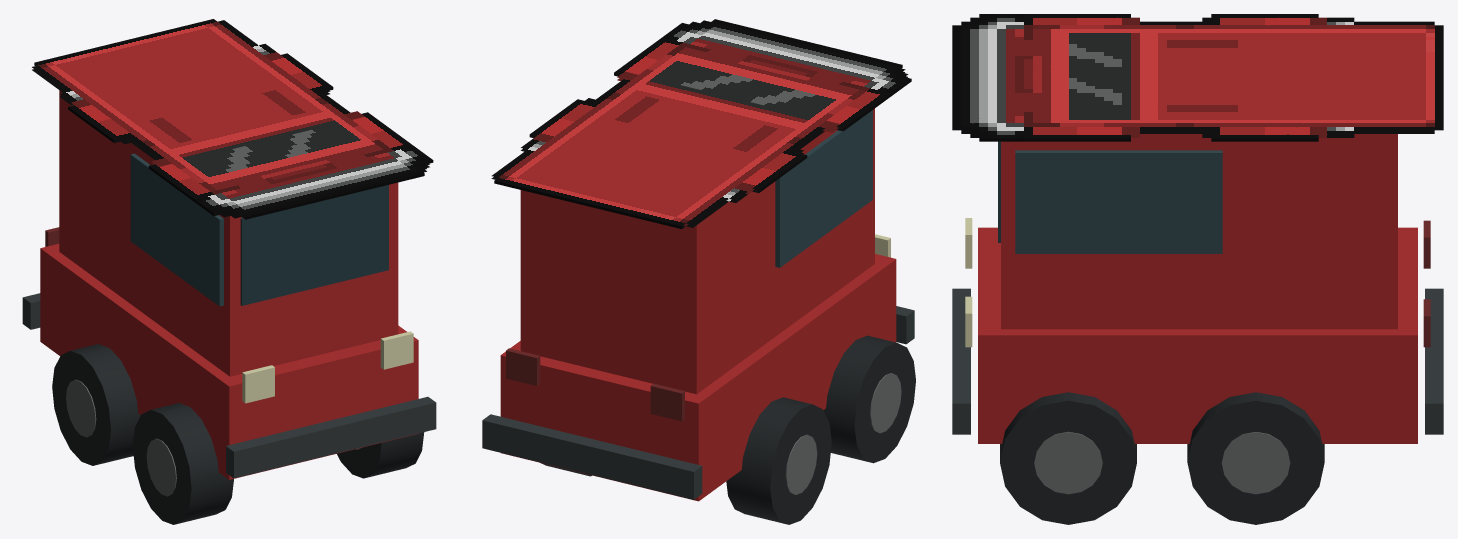
The model's file is CMU3DReduxAU14VehicleCivHSVan.glb.
3 views of the same model, side by side, from view 1: azimuth 30°, elevation 25°; view 2: azimuth 150°, elevation 25°; view 3: azimuth 270°, elevation 25° (orthographic). The views are drawn at different scales.
Visible parts, largest first — view 1: source hull roof panel (×3), upper hull, closed lower chassis, road tire (×3), cab windscreen, cab side window, front bumper, wheel hub (×2), front light (×2), rear bumper; view 2: source hull roof panel (×3), upper hull, closed lower chassis, road tire (×2), cab side window, rear bumper, wheel hub (×2), rear marker (×2), front bumper; view 3: source hull roof panel (×3), upper hull, closed lower chassis, road tire (×2), cab side window, wheel hub (×2), rear bumper, front bumper.
Boxes of the visible parts, x1,y1,x2,y2 form: source hull roof panel (×3): [32, 19, 433, 219]; upper hull: [59, 90, 398, 376]; closed lower chassis: [40, 243, 418, 479]; road tire (×3): [52, 344, 424, 524]; cab windscreen: [240, 185, 388, 305]; cab side window: [130, 153, 223, 306]; front bumper: [226, 396, 436, 478]; wheel hub (×2): [66, 379, 176, 496]; front light (×2): [242, 331, 413, 403]; rear bumper: [22, 293, 40, 329]; source hull roof panel (×3): [491, 19, 911, 228]; upper hull: [520, 108, 874, 394]; closed lower chassis: [500, 254, 896, 501]; road tire (×2): [726, 335, 915, 524]; cab side window: [775, 110, 872, 267]; rear bumper: [482, 414, 702, 499]; wheel hub (×2): [785, 373, 901, 494]; rear marker (×2): [506, 348, 684, 421]; front bumper: [896, 306, 914, 344]; source hull roof panel (×3): [952, 14, 1443, 141]; upper hull: [1001, 134, 1397, 329]; closed lower chassis: [978, 227, 1417, 443]; road tire (×2): [1000, 392, 1324, 524]; cab side window: [1015, 150, 1222, 253]; wheel hub (×2): [1034, 431, 1290, 494]; rear bumper: [1425, 288, 1443, 434]; front bumper: [952, 288, 970, 434].
Bounding box in the file's own units: 1.1 × 1.49 × 1.72.
Materials: 11 (3 with a texture image).
